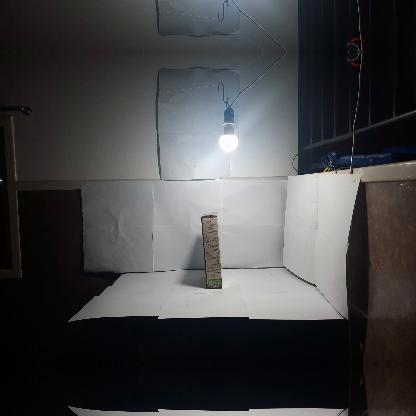Koko-Krunch: (201, 211, 223, 288)
